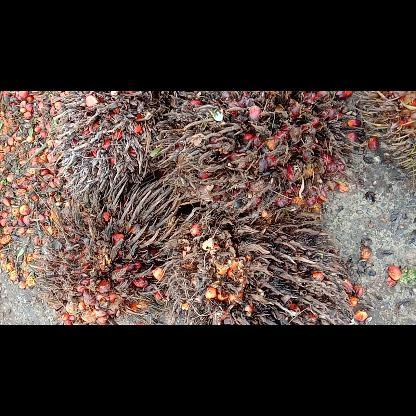Terlalu masak: (134, 194, 360, 324), (148, 91, 364, 225), (28, 192, 170, 324), (46, 90, 172, 214)
